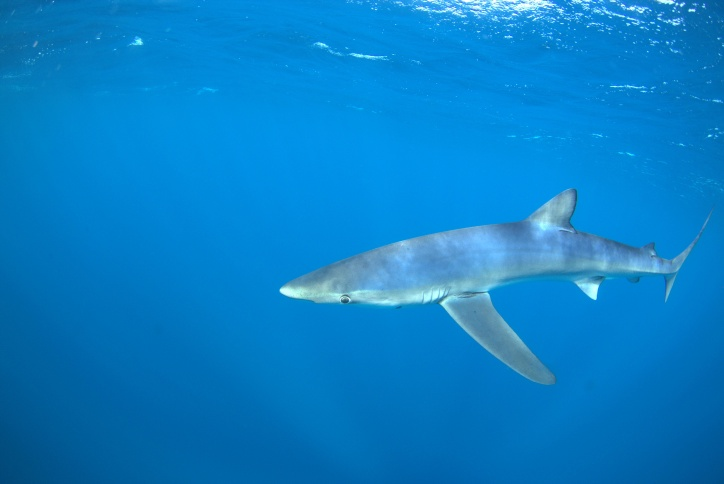Azul: (281, 167, 716, 398)
